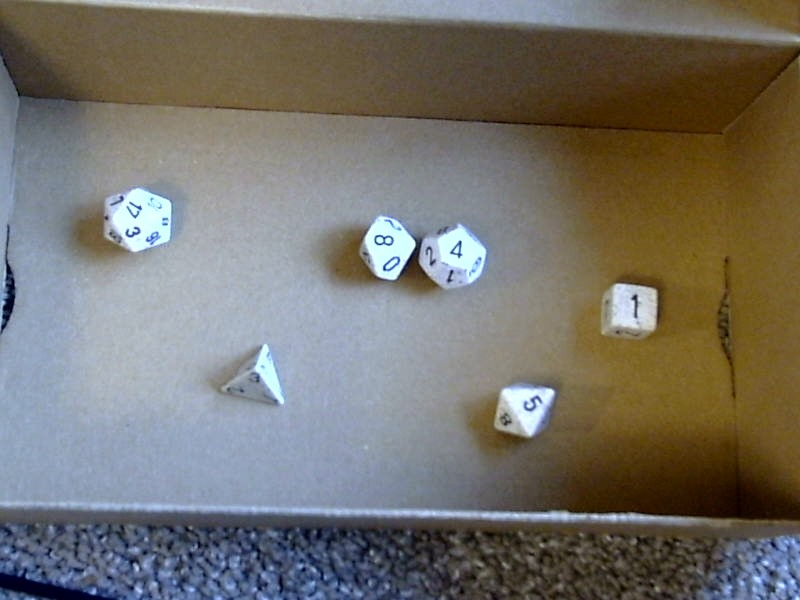d10 8: (351, 210, 416, 292)
d12 4: (418, 215, 493, 298)
d20 17: (95, 183, 177, 261)
d4 3: (215, 339, 292, 417)
d6 1: (592, 276, 663, 350)
d8 5: (486, 377, 561, 444)
